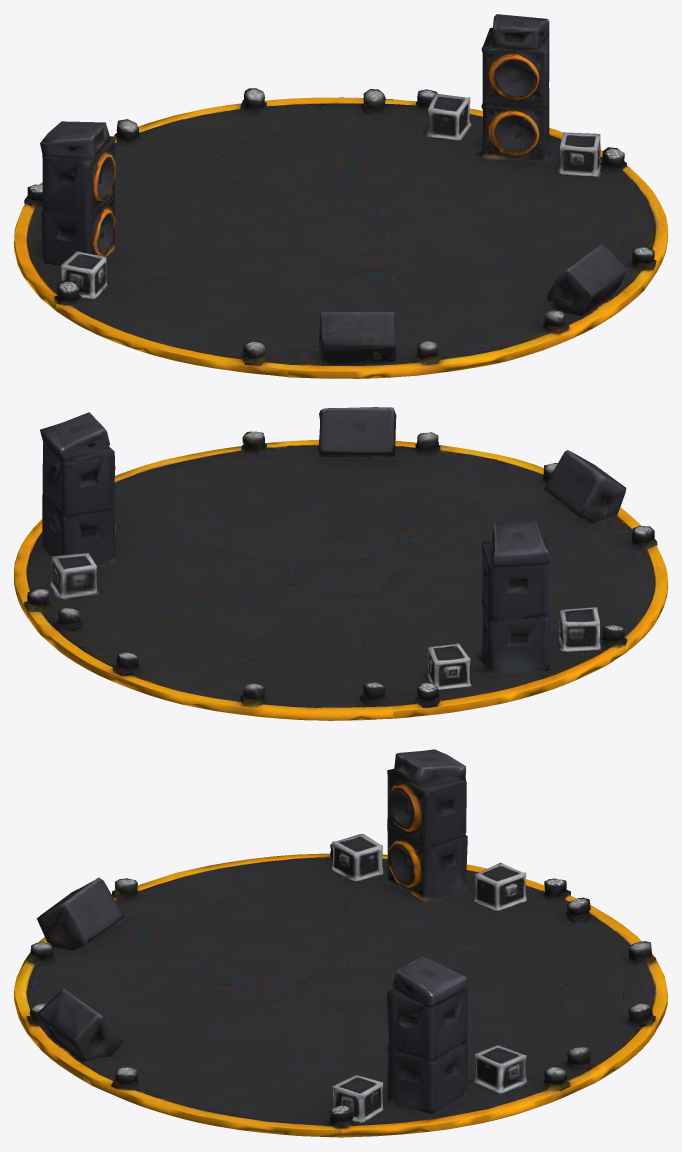
File: dewi-sri-panggung.glb
3 views of the same model, one above another, from view 1: azimuth 30°, elevation 25°; view 2: azimuth 150°, elevation 25°; view 3: azimuth 270°, elevation 25° (orthographic).
Visible parts, largest first — view 1: tripo_node_6149fd4c-25f7-4f1b-983d-7fb3218ce639; view 2: tripo_node_6149fd4c-25f7-4f1b-983d-7fb3218ce639; view 3: tripo_node_6149fd4c-25f7-4f1b-983d-7fb3218ce639.
Boxes of the visible parts, x1,y1,x2,y2 form: tripo_node_6149fd4c-25f7-4f1b-983d-7fb3218ce639: (14,14,667,378); tripo_node_6149fd4c-25f7-4f1b-983d-7fb3218ce639: (14,407,667,720); tripo_node_6149fd4c-25f7-4f1b-983d-7fb3218ce639: (14,749,667,1137).
Size of the model in its own units: 0.981 by 0.2275 by 0.9768.
1 material, 1 textured.
